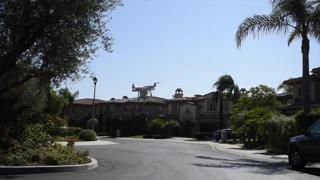UAV: (132, 82, 163, 103)
